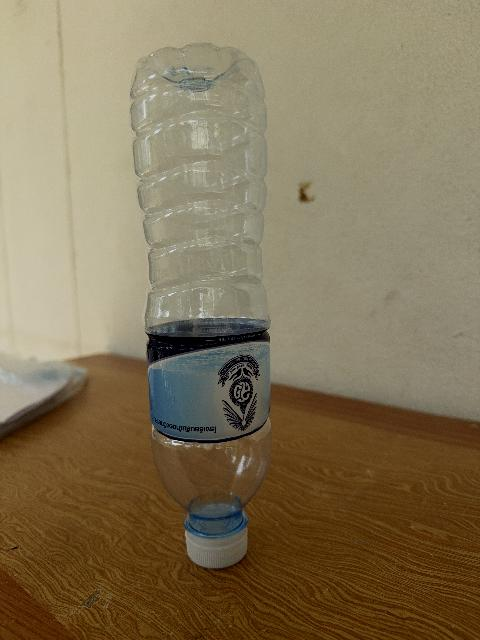bottle: (131, 44, 271, 568)
